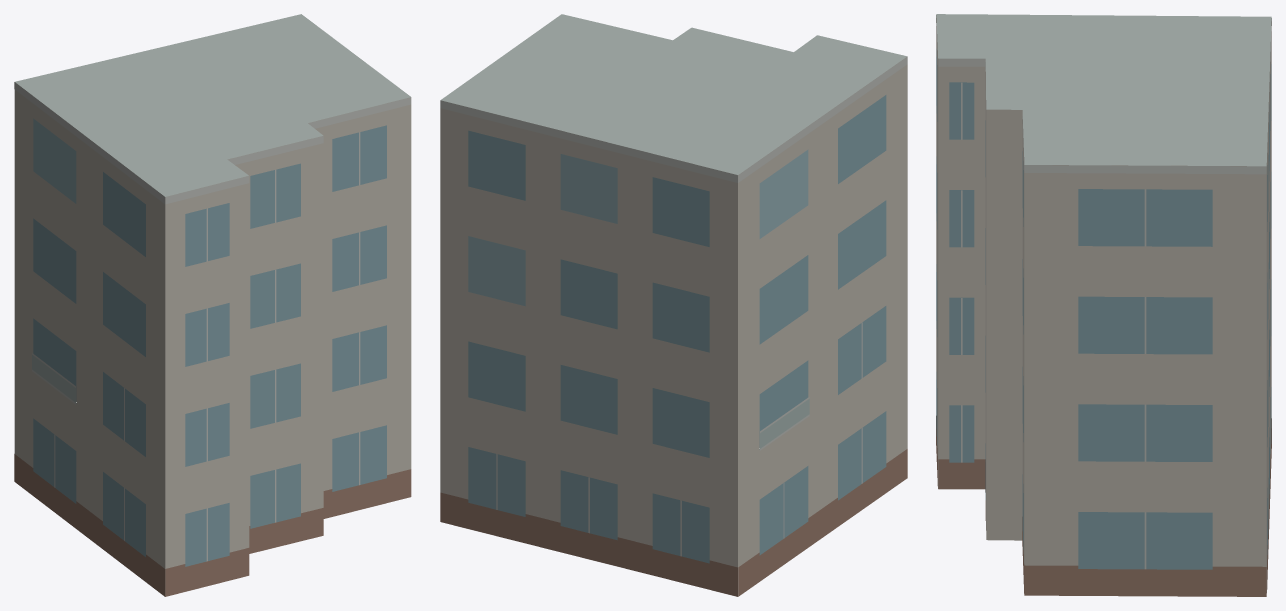
The model's file is survey-upis-32471536.glb.
The picture shows the model from 3 angles, left to right: view 1: azimuth 30°, elevation 25°; view 2: azimuth 150°, elevation 25°; view 3: azimuth 270°, elevation 25°; orthographic projection. The views are drawn at different scales.
Parts seen in each view (by area): view 1: survey-upis-32471536.tmp; view 2: survey-upis-32471536.tmp; view 3: survey-upis-32471536.tmp.
Part boxes in pixels (<box>): survey-upis-32471536.tmp: <box>14,14,411,596</box>; survey-upis-32471536.tmp: <box>440,14,907,596</box>; survey-upis-32471536.tmp: <box>936,14,1271,596</box>.
Size of the model in its own units: 9.9 by 13.05 by 9.22.
